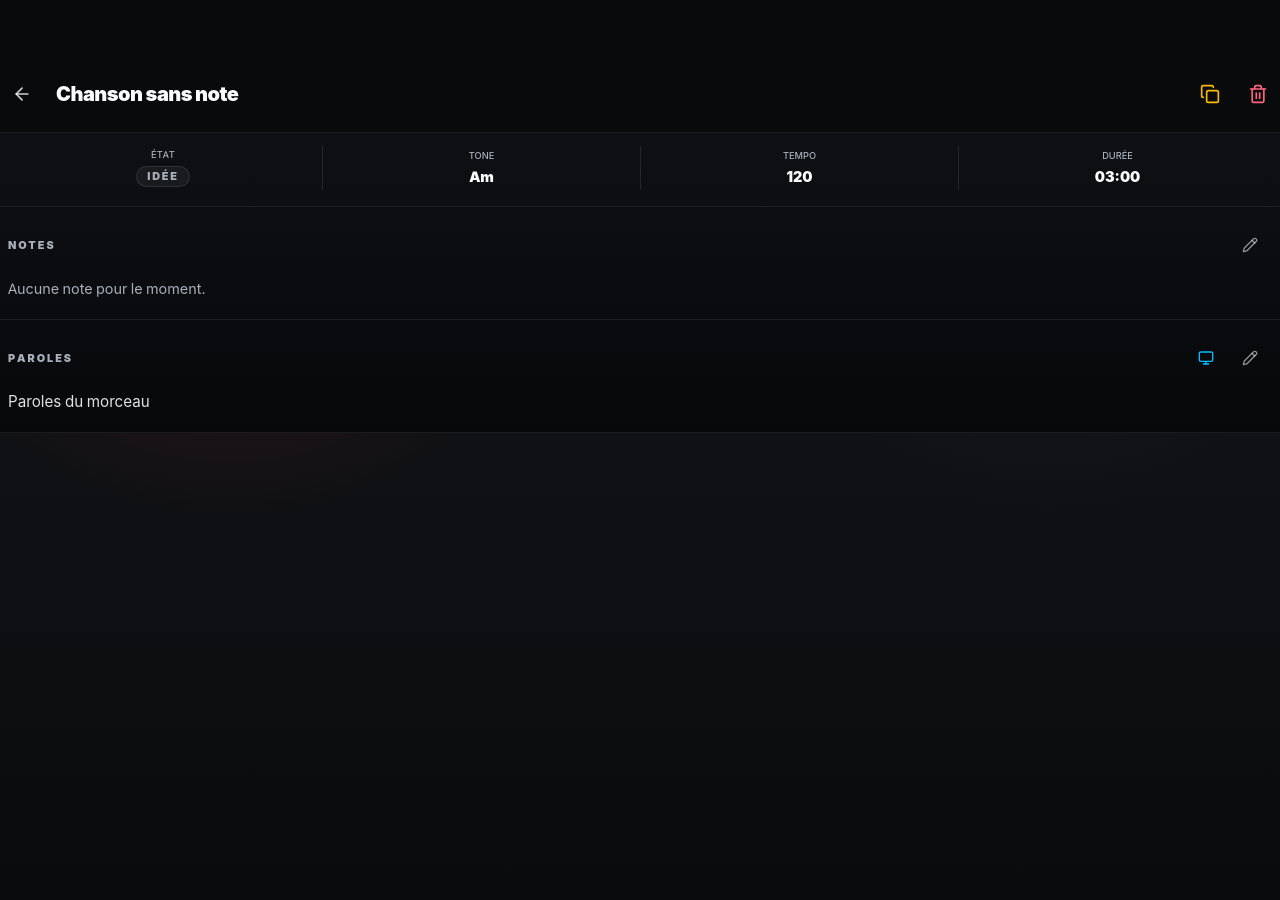
SongDetailPage - Notes › ouvre directement le sélecteur de Modifier la tonalité
This screenshot has width=1280, height=900.
Click the button with aria-label "Modifier la tonalité" at (481, 168), box [322,146,640,190]
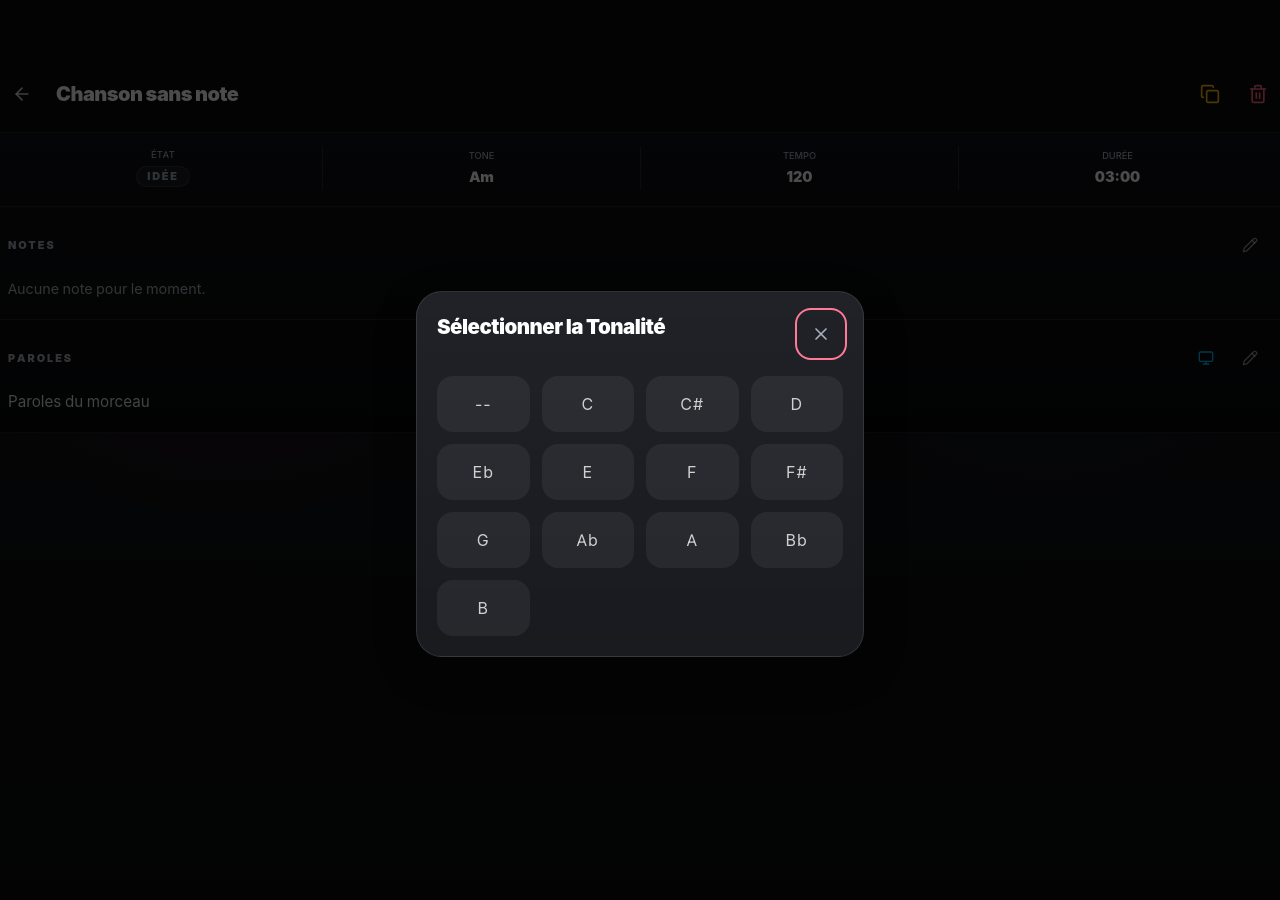
Result: the dialog "Sélectionner la Tonalité" is shown at [416,291,864,657]
